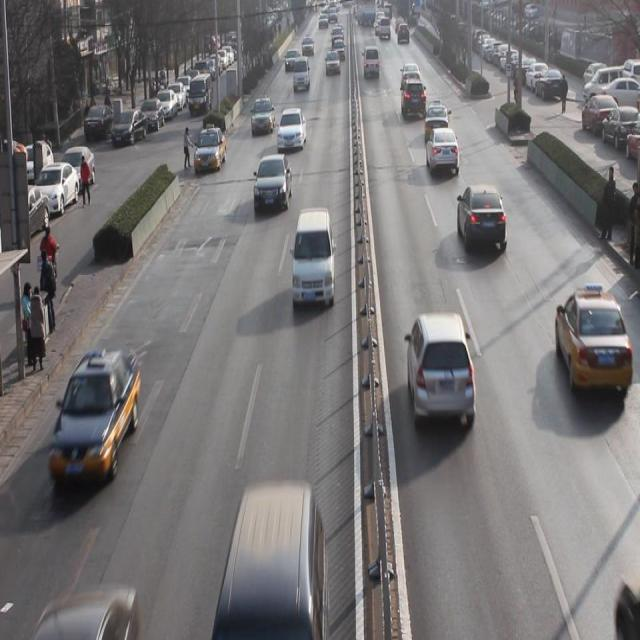car: (50, 355, 139, 483), (553, 283, 630, 396), (406, 310, 477, 432), (458, 184, 507, 253), (253, 158, 292, 215), (426, 127, 460, 175), (193, 128, 227, 174), (277, 109, 307, 151), (423, 99, 448, 143), (401, 78, 427, 119), (251, 96, 274, 134)
truck: (220, 492, 330, 633), (293, 208, 335, 310), (292, 56, 310, 93)
